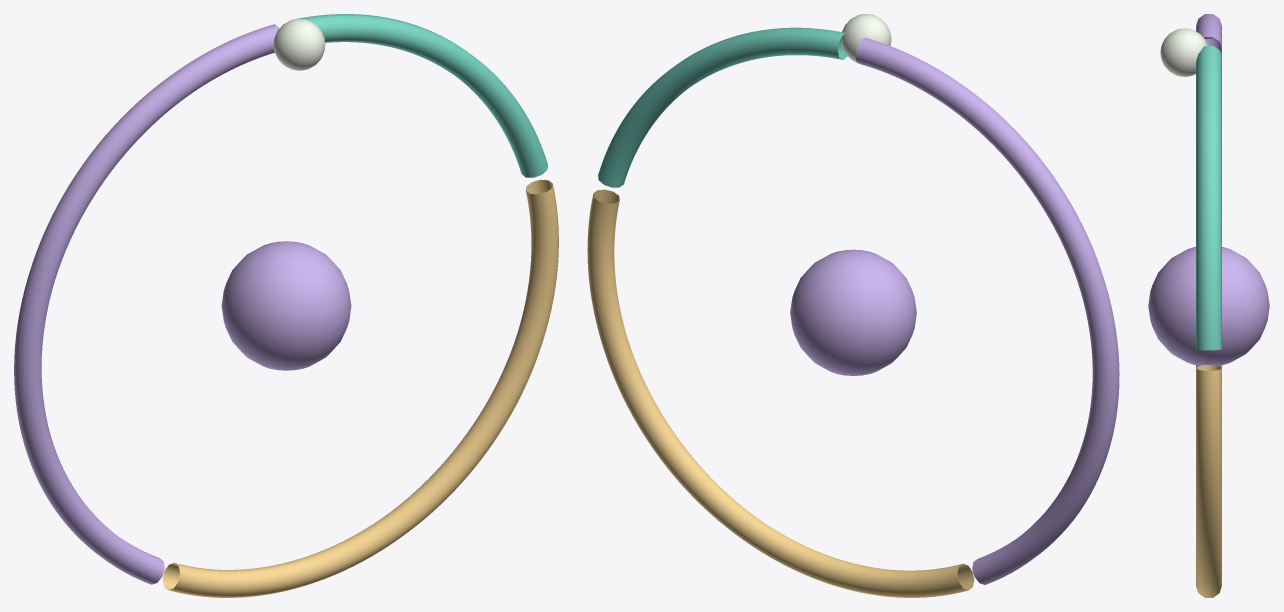
Rendered from fourSevenEight.glb.
The picture shows the model from 3 angles, left to right: view 1: azimuth 30°, elevation 25°; view 2: azimuth 150°, elevation 25°; view 3: azimuth 270°, elevation 25°; orthographic projection. The views are drawn at different scales.
Visible parts, largest first — view 1: arc_2, arc_1, lantern, arc_0, cadence_marker; view 2: arc_2, arc_1, lantern, arc_0, cadence_marker; view 3: lantern, arc_0, arc_1, cadence_marker, arc_2.
Boxes of the visible parts, box(x1,y1,x2,y2) form: arc_2: box(14, 24, 279, 584); arc_1: box(162, 179, 558, 597); lantern: box(221, 241, 351, 370); arc_0: box(295, 14, 547, 177); cadence_marker: box(273, 19, 325, 70); arc_2: box(855, 37, 1119, 584); arc_1: box(587, 189, 974, 597); lantern: box(790, 249, 916, 375); arc_0: box(598, 27, 847, 187); cadence_marker: box(841, 14, 891, 62); lantern: box(1148, 247, 1269, 365); arc_0: box(1196, 46, 1221, 350); arc_1: box(1196, 365, 1221, 597); cadence_marker: box(1160, 28, 1207, 76); arc_2: box(1196, 14, 1221, 367).
Bounding box in the file's own units: 2.88 × 2.94 × 0.6.
